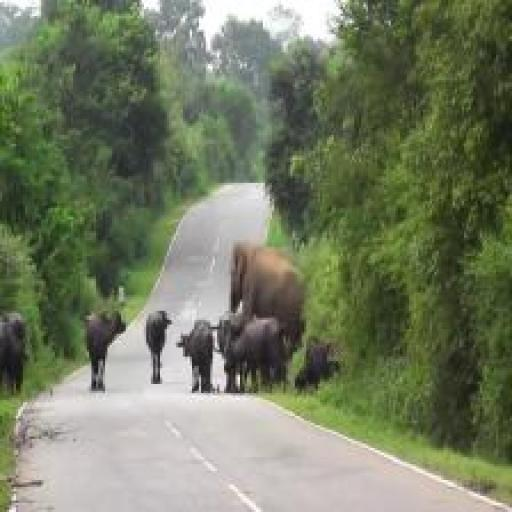Elephant: (224, 236, 307, 324)
